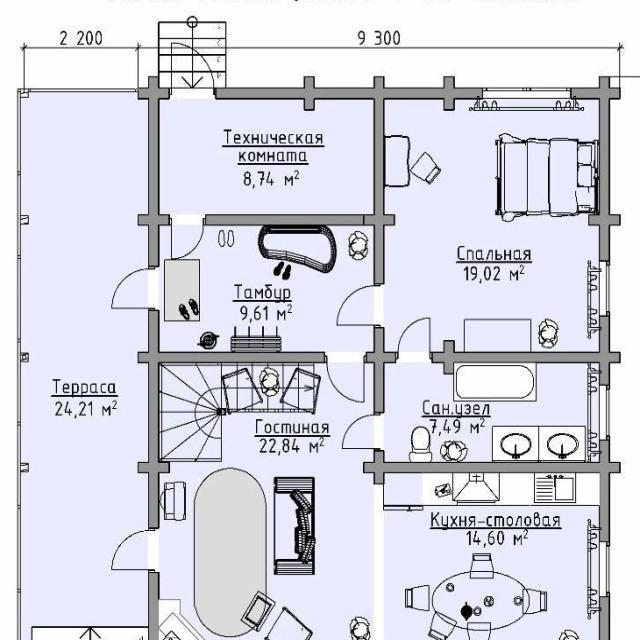Bathrooms: (385, 363, 599, 461)
Corridors: (22, 93, 148, 624), (161, 226, 373, 352), (160, 101, 374, 214)
Doors: (168, 38, 216, 98), (108, 266, 160, 310), (335, 283, 386, 327), (325, 352, 367, 404), (110, 530, 160, 571), (339, 412, 385, 451), (169, 213, 207, 260), (396, 315, 432, 363), (373, 485, 384, 640)
LBwalls: (204, 75, 483, 288), (136, 310, 326, 529), (362, 443, 622, 542), (431, 316, 621, 383), (570, 76, 622, 262), (136, 76, 171, 268), (364, 327, 397, 414), (148, 570, 160, 640), (599, 598, 610, 640)
Offices: (159, 363, 374, 640), (385, 101, 597, 352), (385, 474, 599, 639)
Stairs: (157, 15, 228, 88), (23, 625, 148, 640)
Walls: (18, 88, 137, 640)
Windows: (483, 88, 572, 99), (599, 384, 610, 442), (599, 260, 610, 317), (599, 542, 610, 597)
